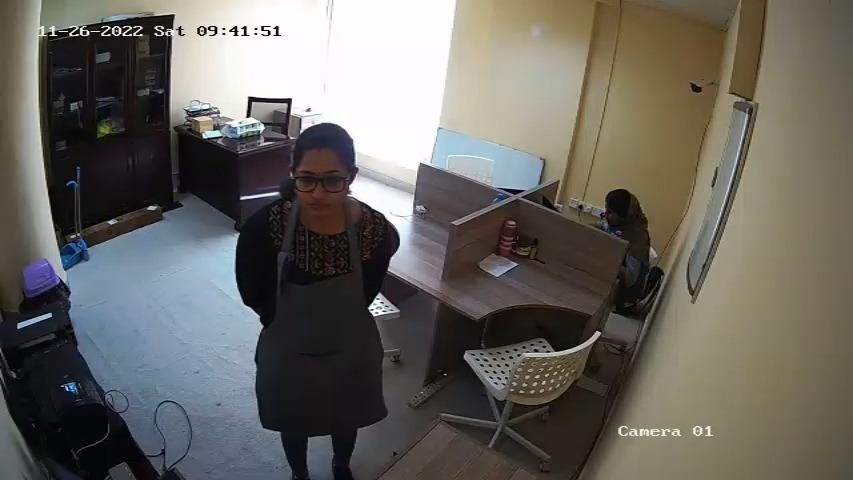apron: (258, 213, 385, 424)
